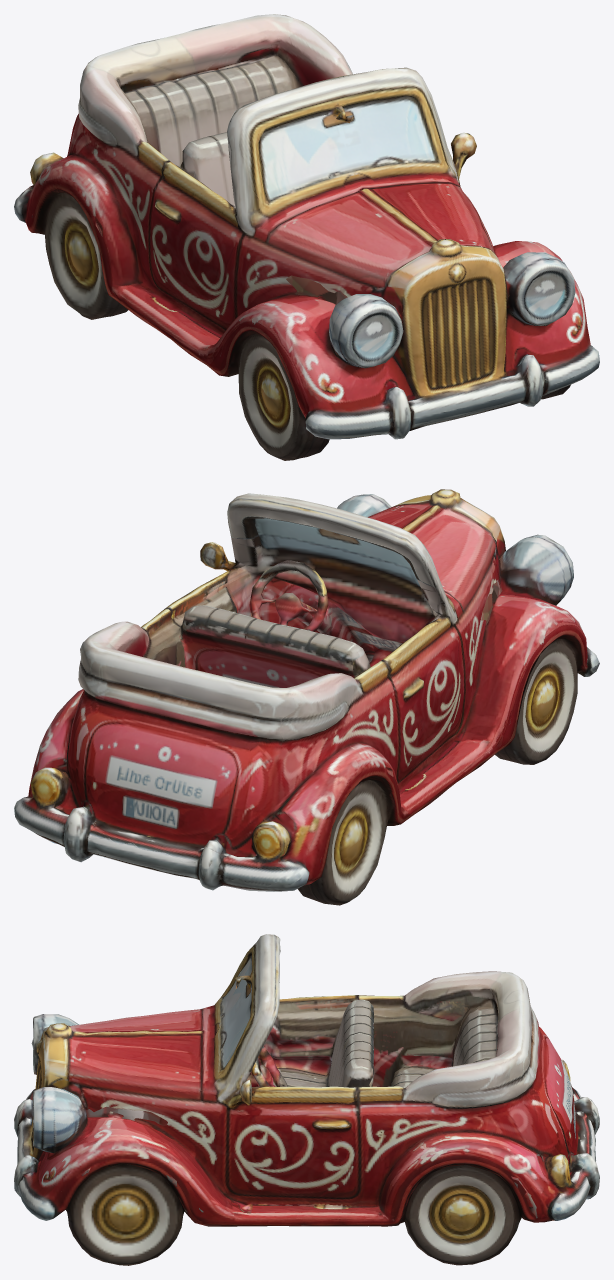
Rendered from 롯데_퍼레이드카.glb.
The picture shows the model from 3 angles, top to bottom: view 1: azimuth 30°, elevation 25°; view 2: azimuth 150°, elevation 25°; view 3: azimuth 270°, elevation 25°; orthographic projection. The views are drawn at different scales.
Visible parts, largest first — view 1: texture_mapping; view 2: texture_mapping; view 3: texture_mapping.
Boxes of the visible parts, x1,y1,x2,y2 form: texture_mapping: (14, 14, 599, 460); texture_mapping: (14, 489, 599, 905); texture_mapping: (14, 934, 599, 1265).
Bounding box in the file's own units: 0.5126 × 0.4655 × 1.
1 material, 1 textured.
